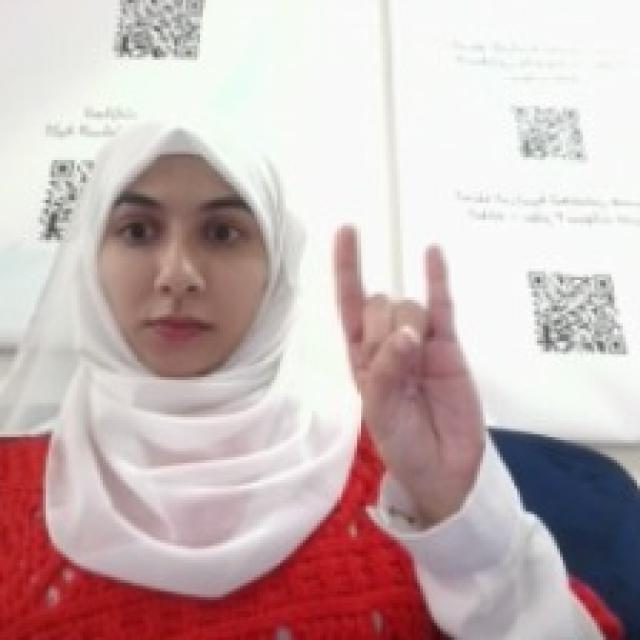No: (326, 214, 486, 489)
